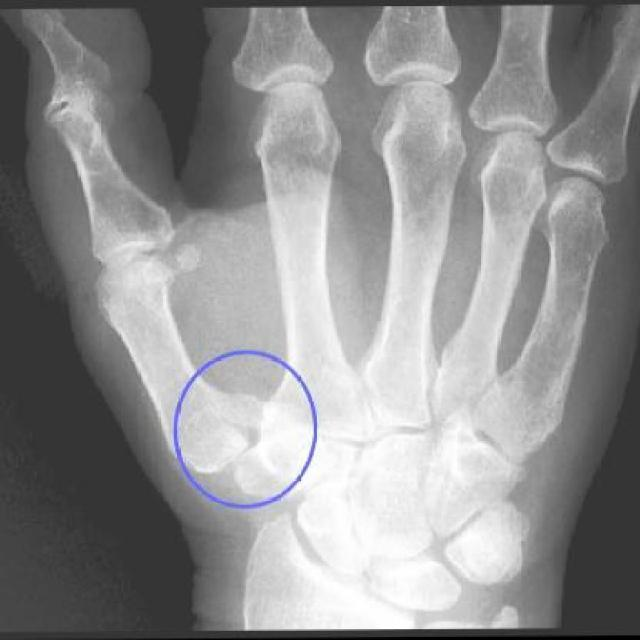Fracture: (216, 380, 270, 450)
